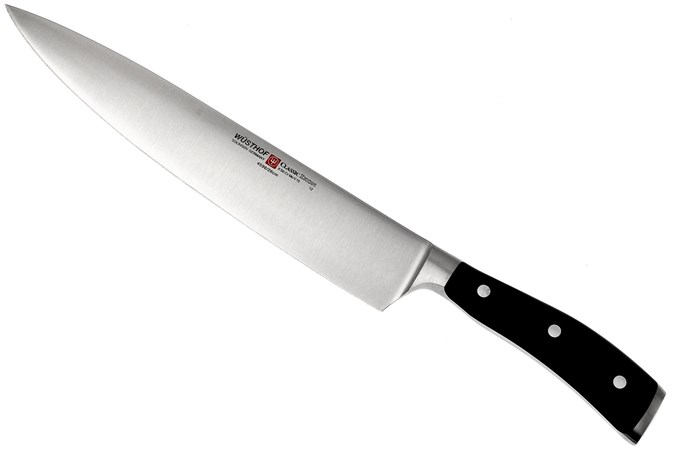knife: (4, 2, 668, 447)
